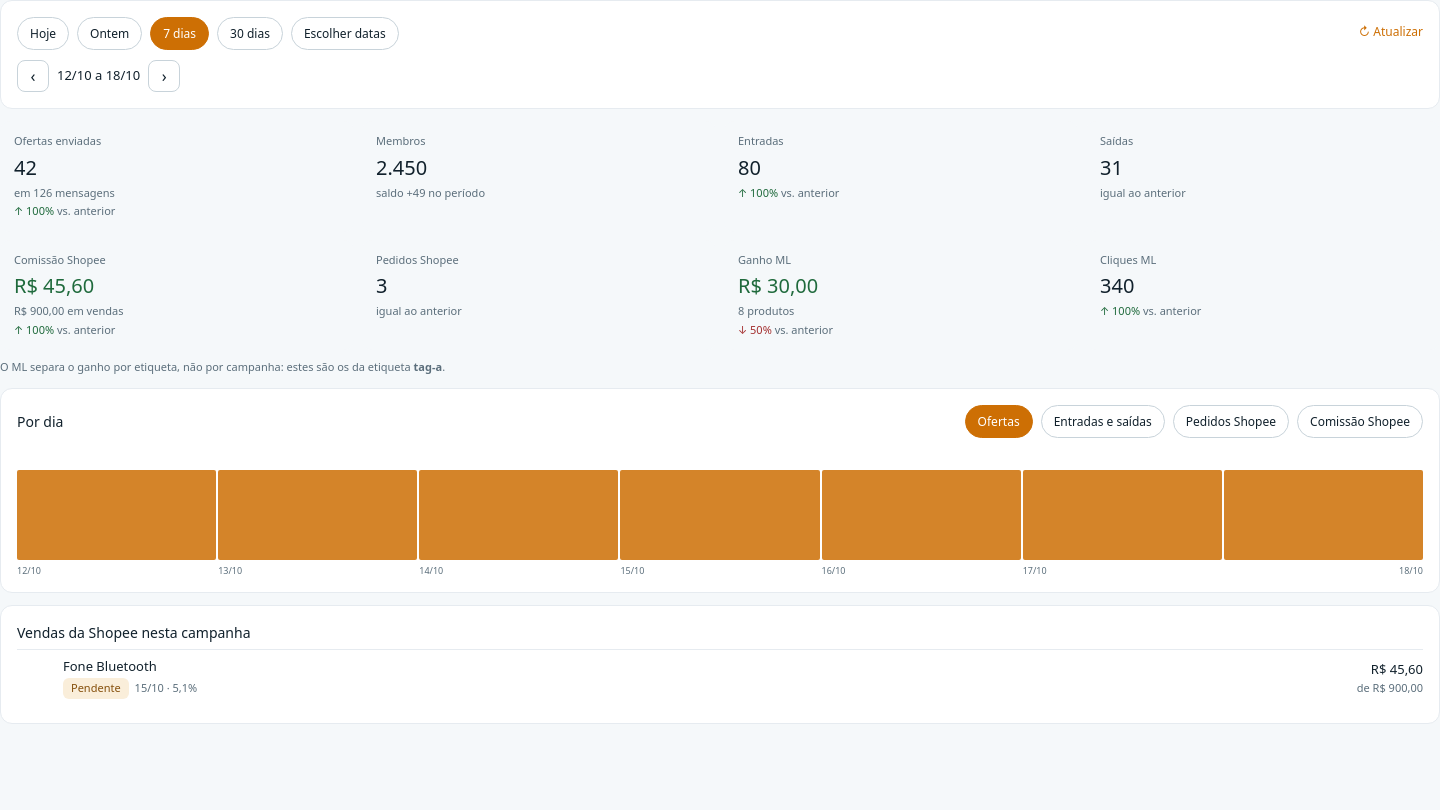
Test: DesempenhoCampanha › período que termina hoje pede o ML só até ontem
expect the text "42" is shown: met, box [14, 154, 37, 180]
Step 1. Click the button "Escolher datas" → click(345, 34), box [291, 17, 399, 50]
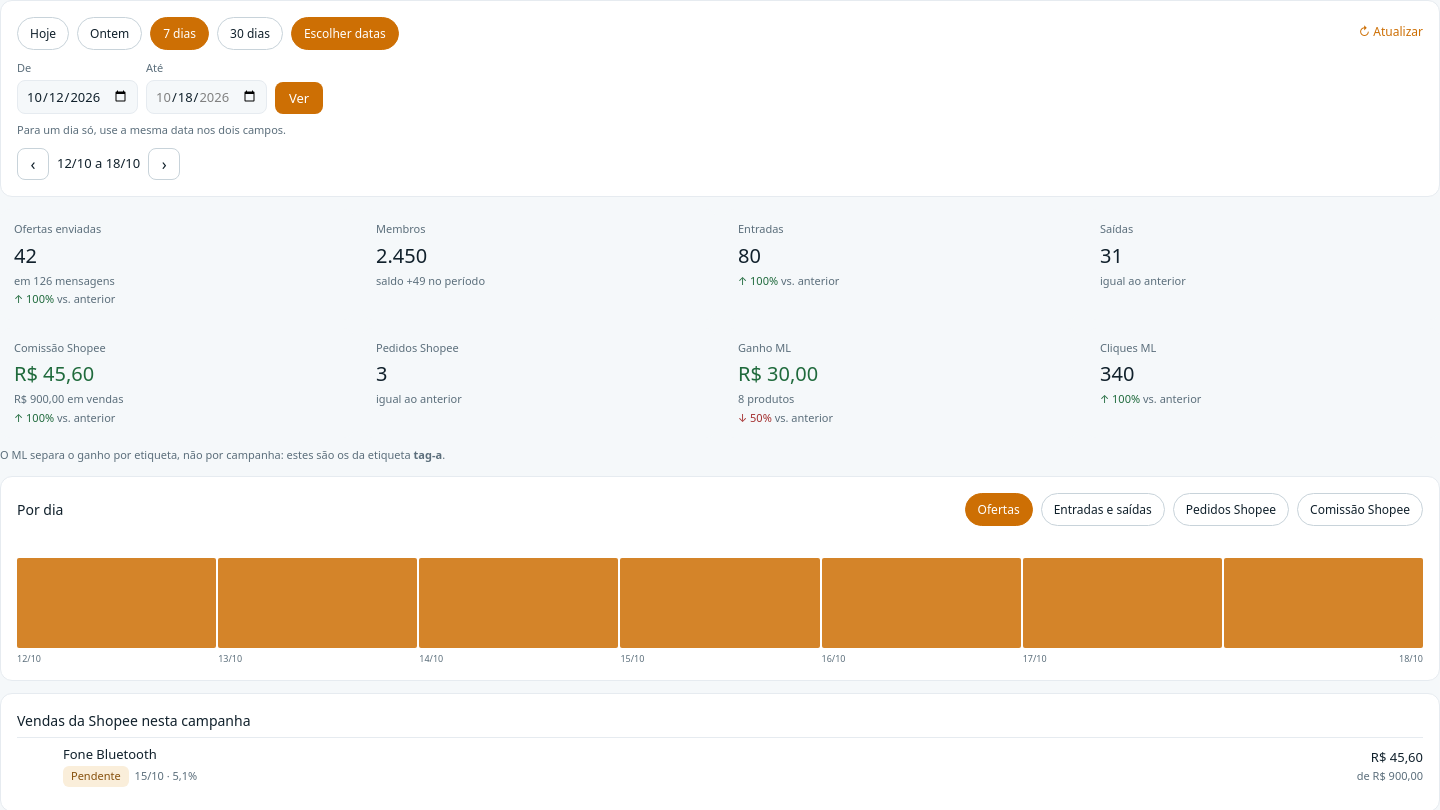
Step 2. Type "2026-10-17" into the date field labelled "De" → (78, 96), box [17, 80, 138, 114]
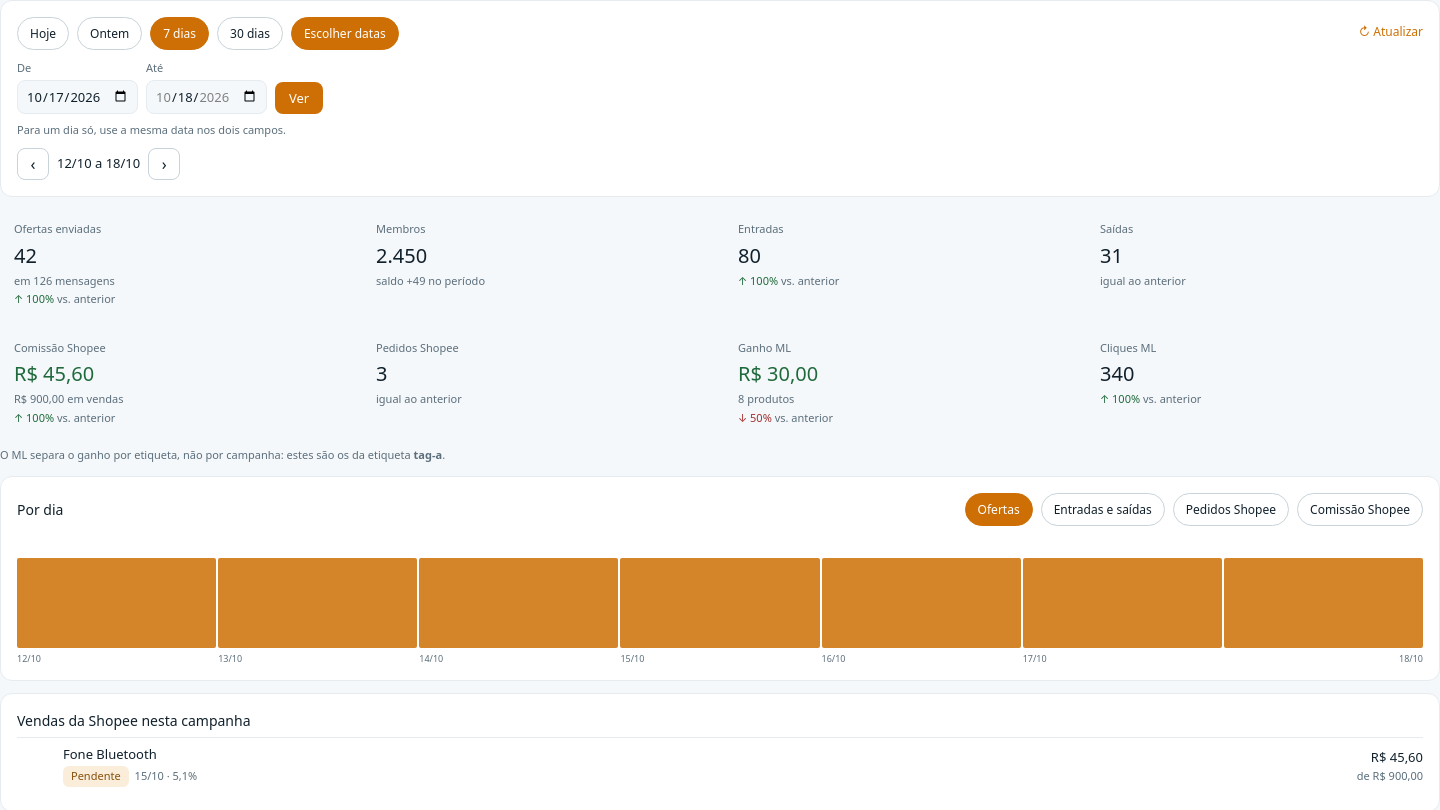
Step 3. Type "2026-10-19" into the date field labelled "Até" → (206, 96), box [146, 80, 267, 114]
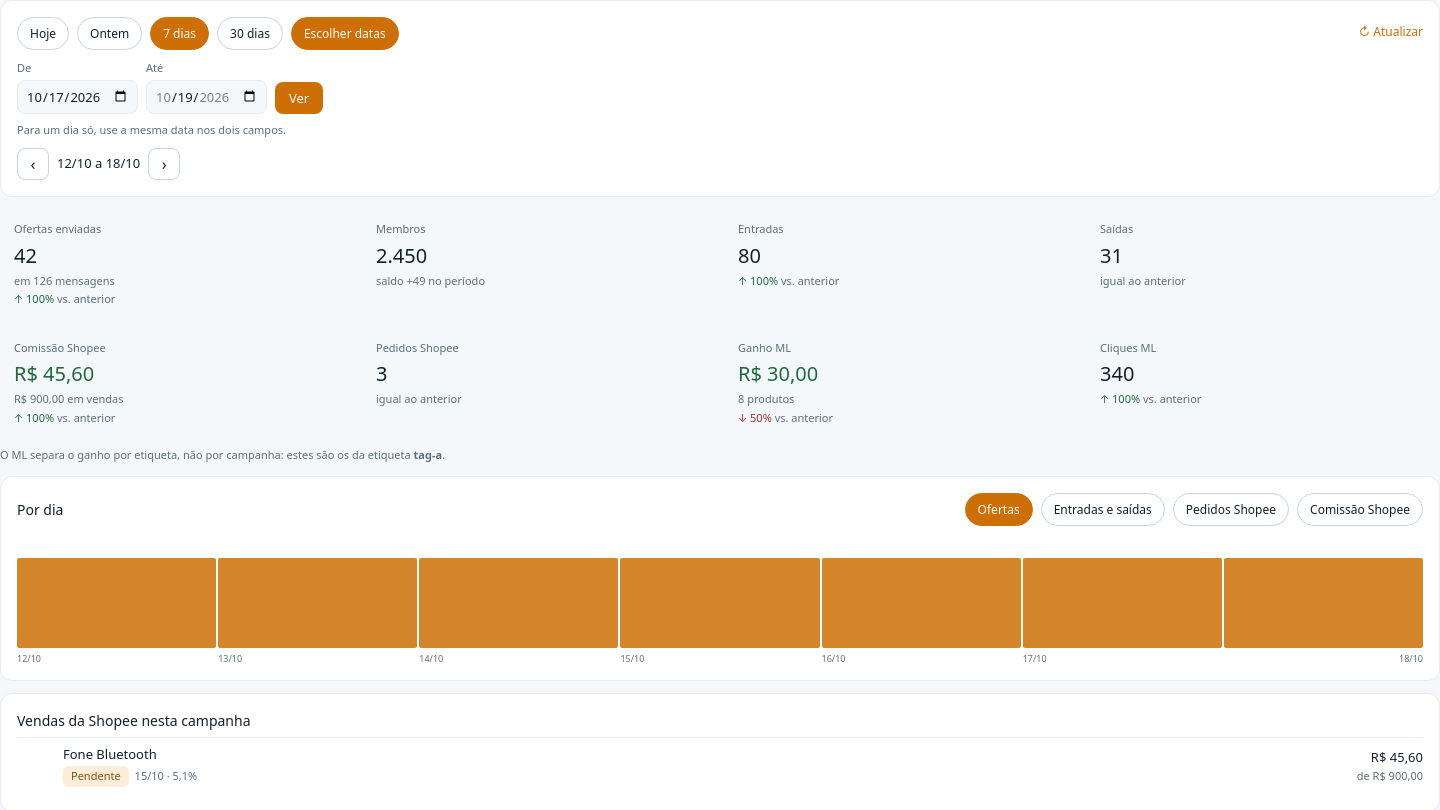
Step 4. Click the button "Ver" → click(299, 98), box [275, 82, 323, 114]
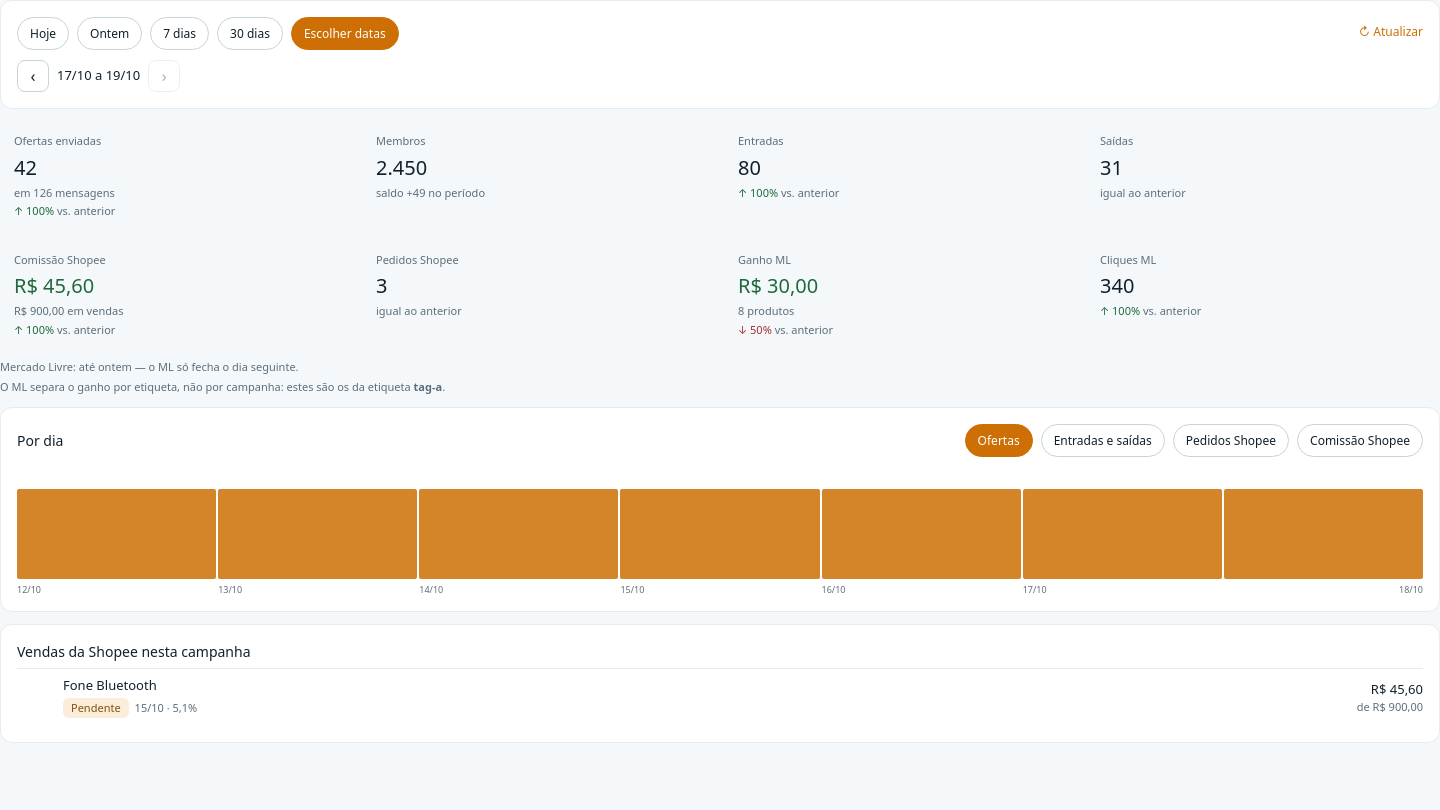
expect the text "Mercado Livre: até ontem — o ML só fecha o dia seguinte." is shown: met, box [0, 359, 298, 374]
